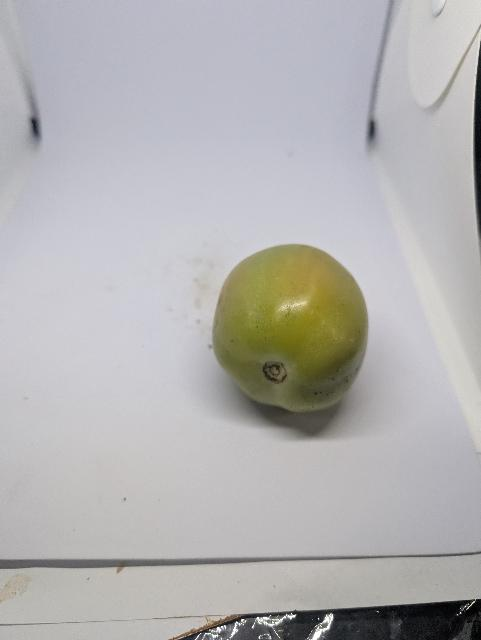green: (184, 228, 392, 453)
